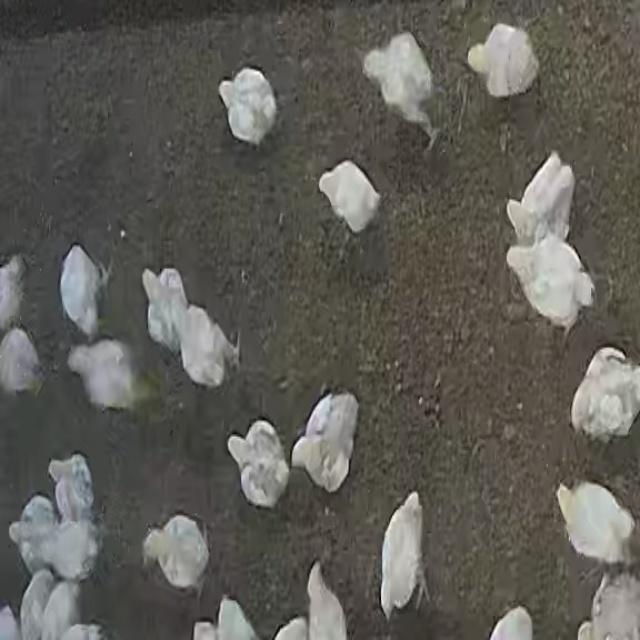chicken: (359, 28, 449, 158), (504, 236, 598, 336), (552, 477, 638, 568), (47, 240, 121, 342), (65, 342, 159, 422), (377, 488, 433, 622), (290, 391, 364, 492), (503, 144, 579, 242), (138, 508, 214, 601), (565, 344, 640, 438), (463, 20, 545, 102), (224, 418, 292, 512), (214, 63, 282, 150), (317, 156, 385, 236)
